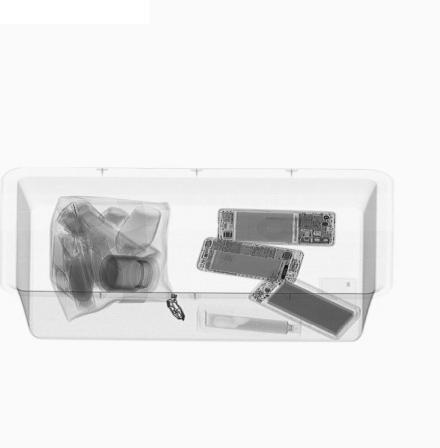Powerbank: (245, 269, 364, 343)
